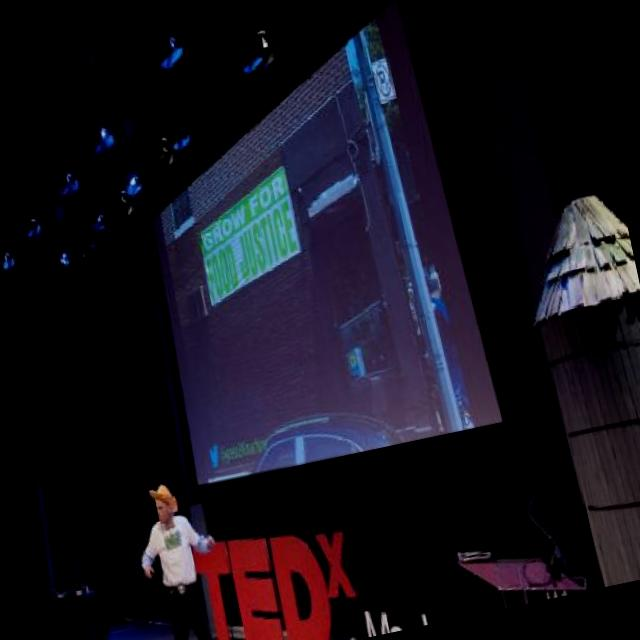Person: (124, 471, 243, 640)
